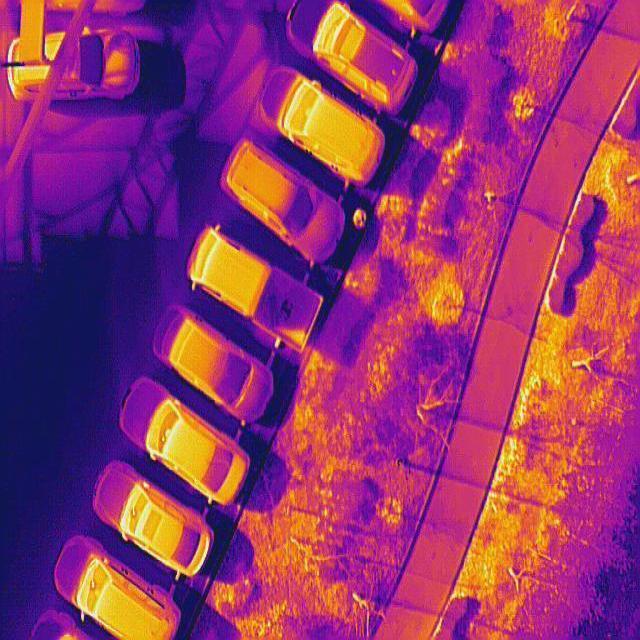No-Anomaly: (19, 0, 46, 59)
